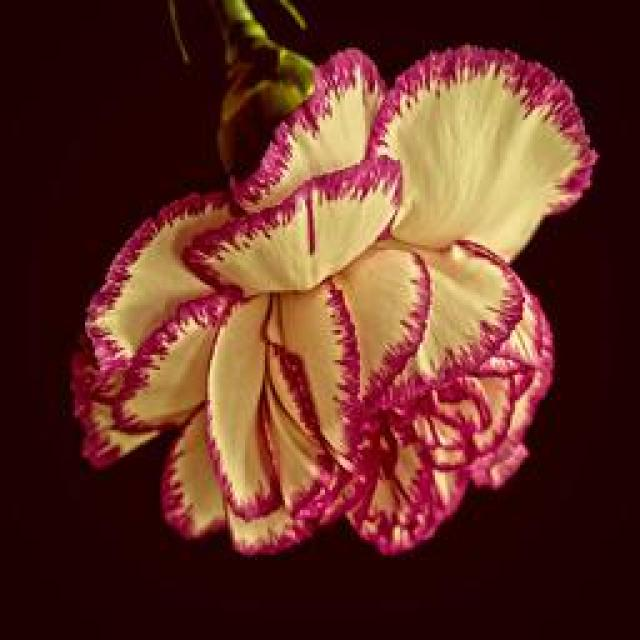carnation: (56, 26, 640, 570)
